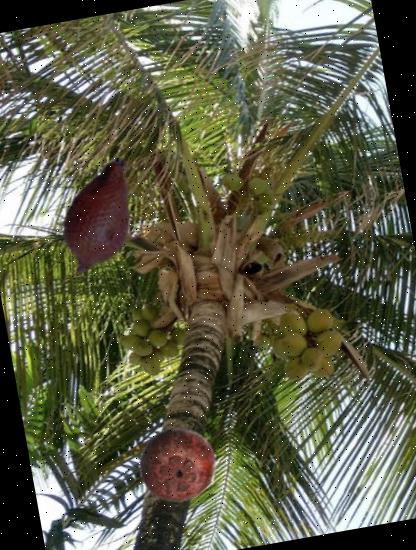Mangostan: (132, 419, 224, 510)
Salak: (27, 145, 172, 291)
